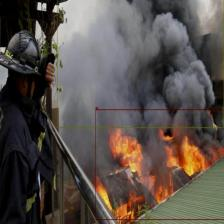fire: (95, 109, 224, 220)
smoke: (57, 0, 223, 128)
